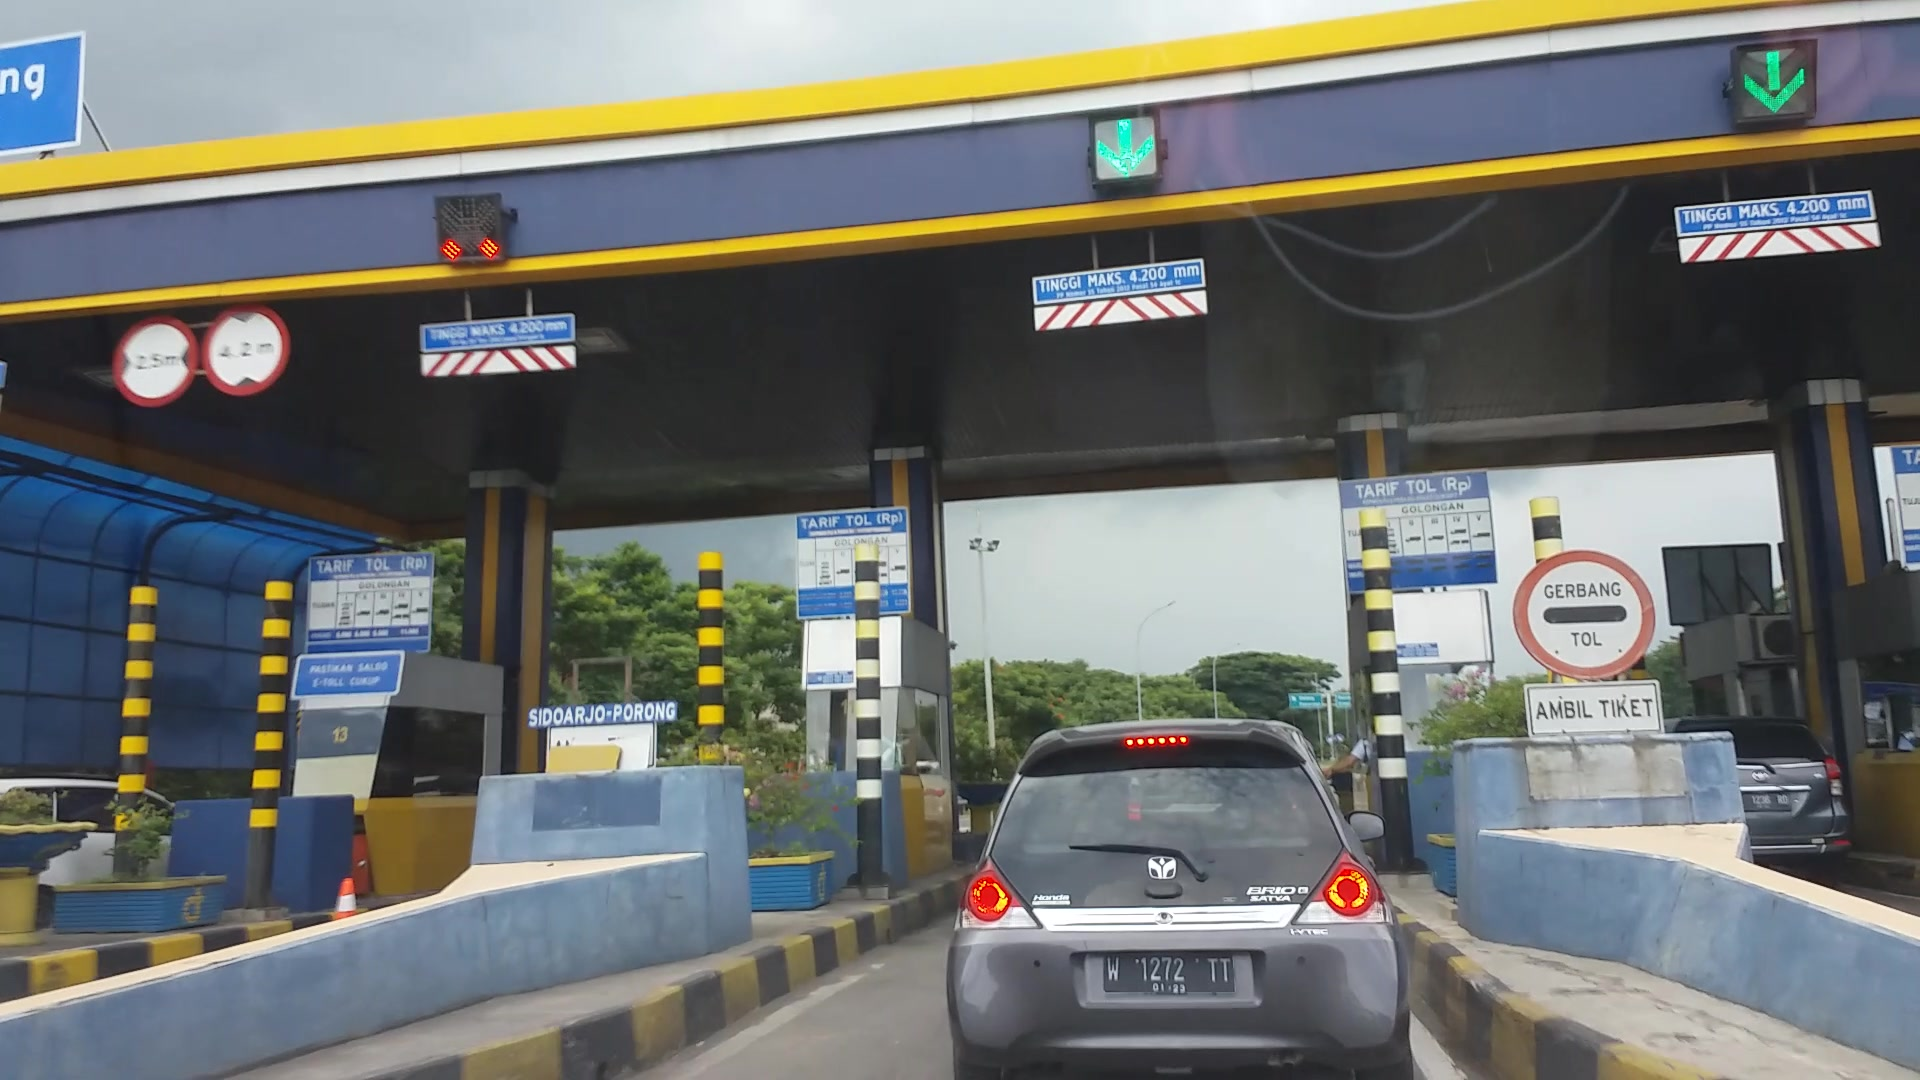plate_positive: (1104, 953, 1234, 994)
